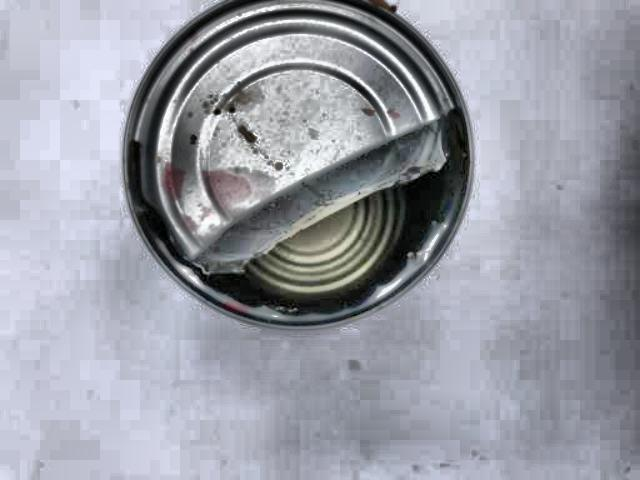Almennt: (110, 0, 479, 334)
